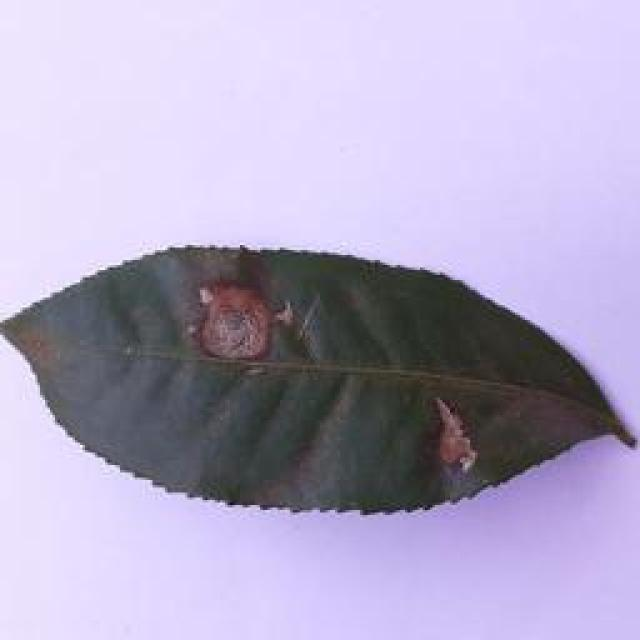Gray Blight: (0, 245, 638, 515)
